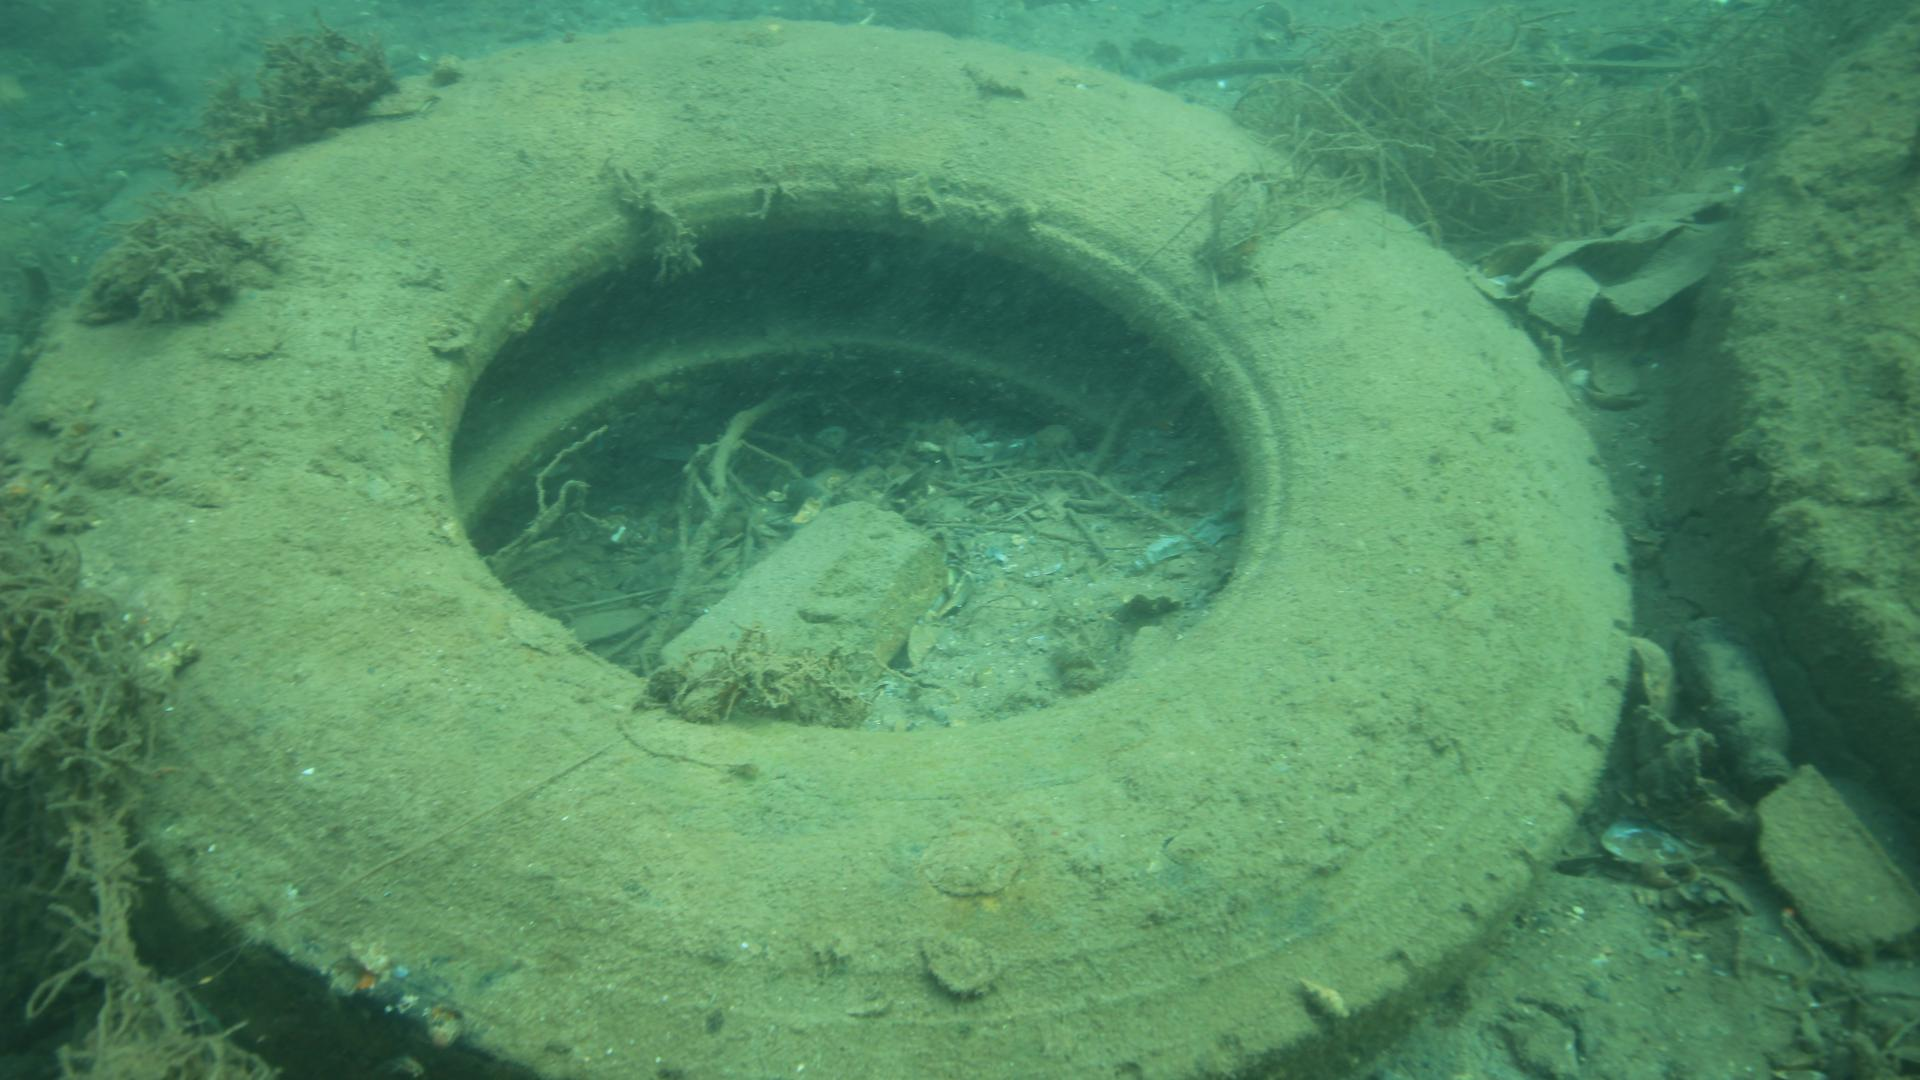tire: (0, 15, 1633, 1080)
